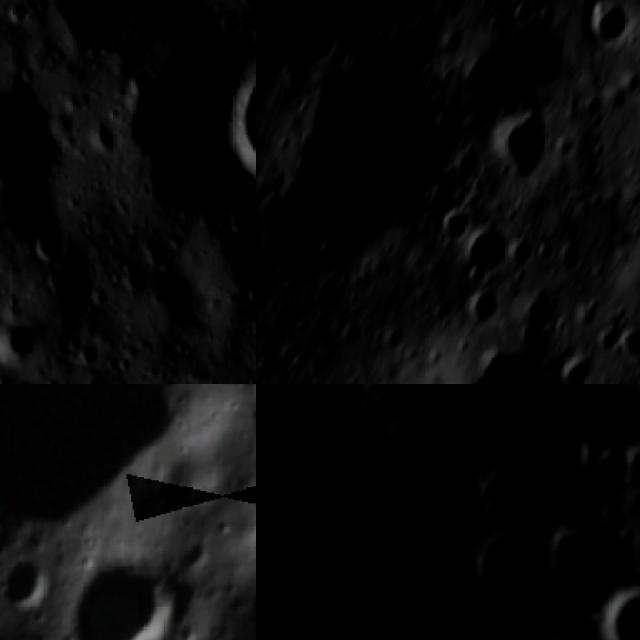crater: (279, 45, 456, 254), (43, 526, 200, 640), (0, 80, 68, 209), (468, 516, 558, 605), (483, 104, 558, 185), (442, 344, 583, 384), (0, 540, 61, 621), (463, 223, 518, 280), (518, 288, 564, 352), (587, 435, 636, 495), (222, 384, 256, 469), (21, 220, 72, 272), (594, 583, 640, 640), (586, 0, 637, 49), (0, 315, 41, 368), (440, 202, 478, 247), (256, 203, 273, 303), (560, 346, 602, 384), (464, 288, 506, 324), (619, 434, 640, 503), (379, 322, 410, 359), (333, 320, 368, 352), (560, 236, 590, 273), (159, 366, 217, 384), (616, 323, 640, 366), (538, 233, 560, 270), (336, 384, 380, 400), (256, 319, 272, 356)
